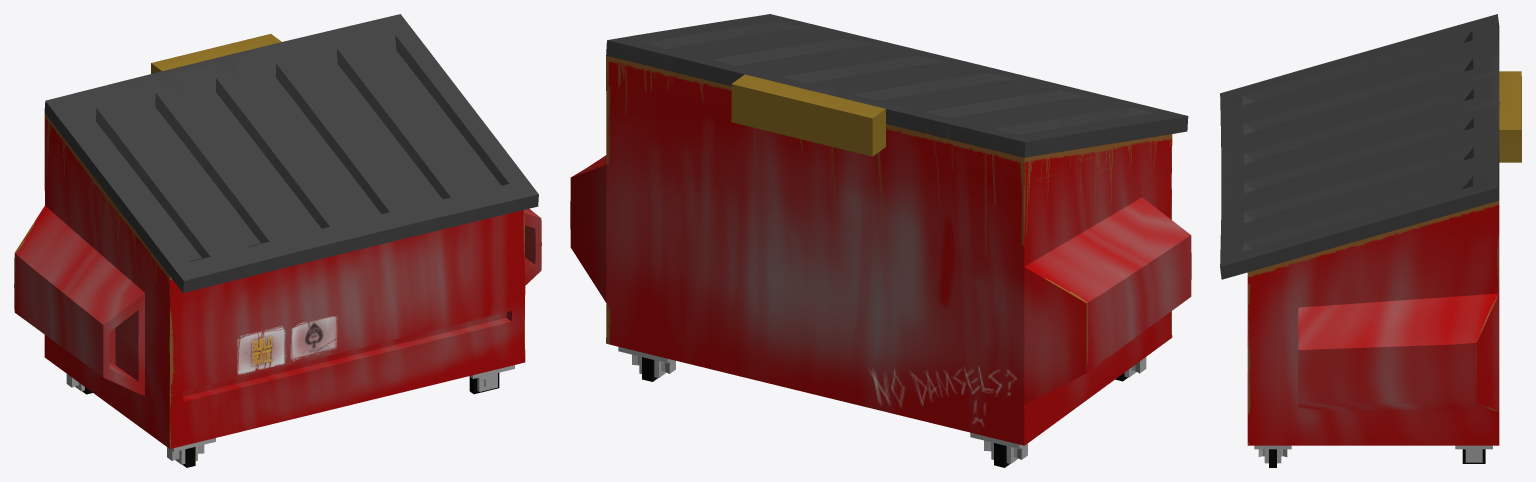
Rendered from ClosedDumpster.fbx.
3 views of the same model, side by side, from view 1: azimuth 30°, elevation 25°; view 2: azimuth 150°, elevation 25°; view 3: azimuth 270°, elevation 25° (orthographic). The views are drawn at different scales.
Visible parts, largest first — view 1: ClosedDumpster:polySurface1; view 2: ClosedDumpster:polySurface1; view 3: ClosedDumpster:polySurface1.
Boxes of the visible parts, x1=… form: ClosedDumpster:polySurface1: x1=14, y1=14, x2=541, y2=467; ClosedDumpster:polySurface1: x1=570, y1=14, x2=1191, y2=467; ClosedDumpster:polySurface1: x1=1220, y1=14, x2=1521, y2=467.
Bounding box in the file's own units: 838 × 524 × 498.
1 material, 1 textured.
